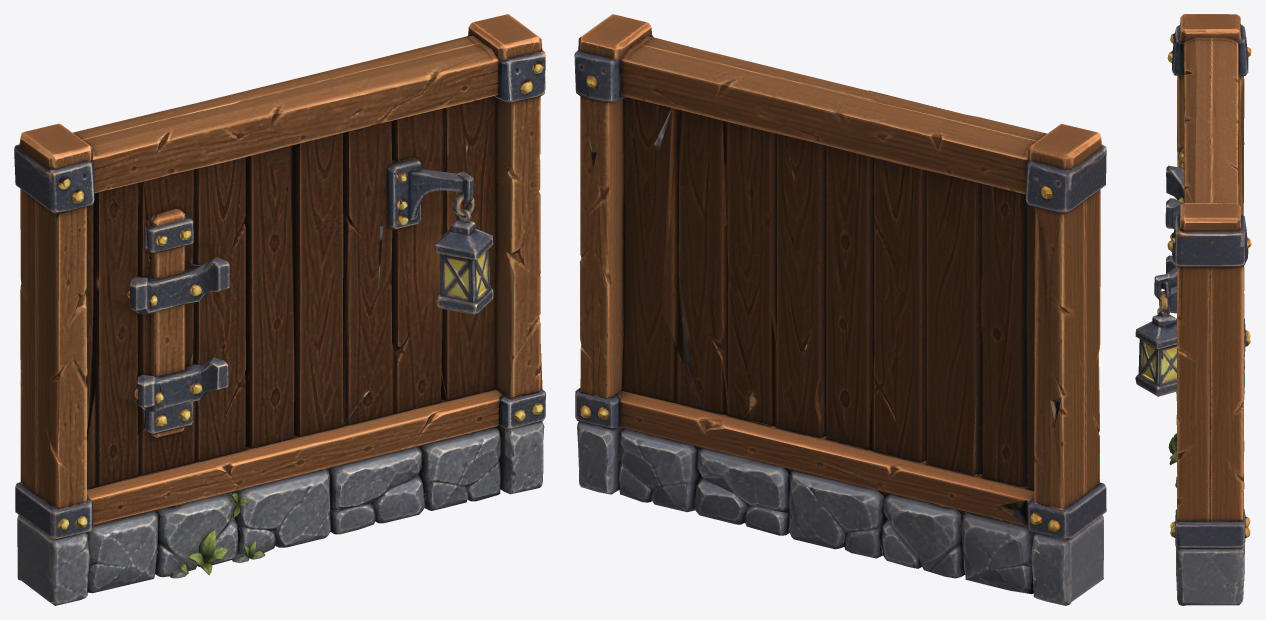
File: wall_plain_2.glb
3 renders of one model, left to right at view 1: azimuth 30°, elevation 25°; view 2: azimuth 150°, elevation 25°; view 3: azimuth 270°, elevation 25°, orthographic. The views are drawn at different scales.
Visible parts, largest first — view 1: output_unwrapped; view 2: output_unwrapped; view 3: output_unwrapped.
Part boxes in pixels (x1,y1,x2,y2): output_unwrapped: (14,14,545,605); output_unwrapped: (574,14,1106,605); output_unwrapped: (1135,14,1251,605).
Bounding box in the file's own units: 1.9 × 1.65 × 0.446.
1 material, 1 textured.
